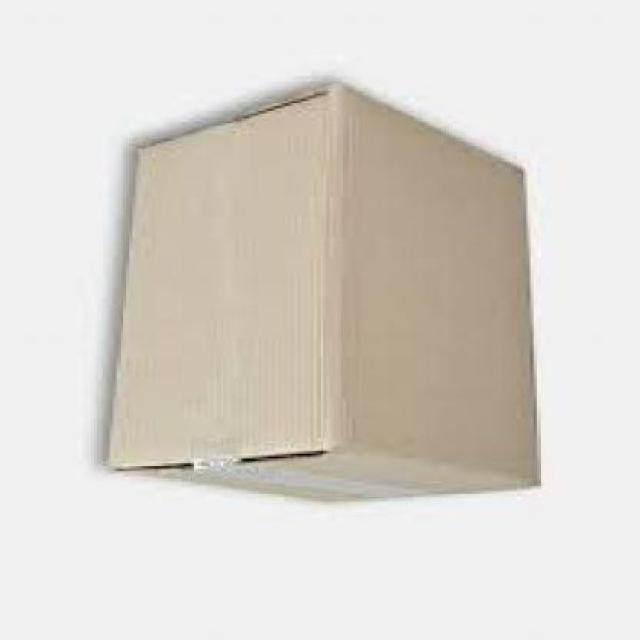CARDBOARD: (103, 85, 537, 504)
